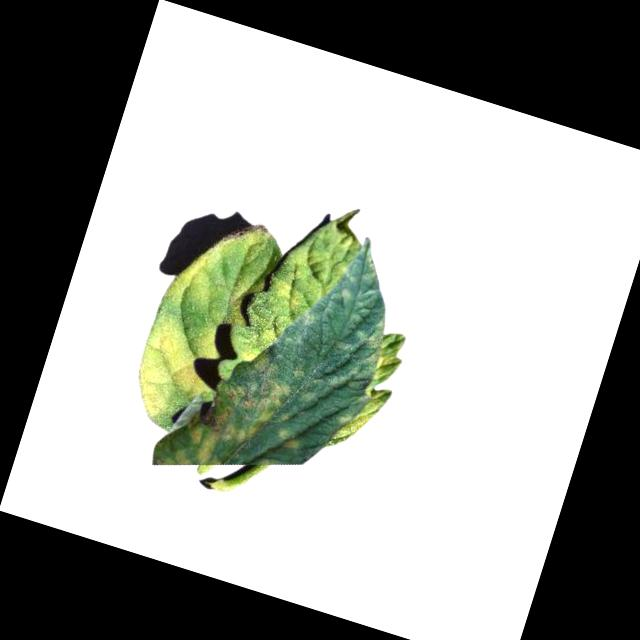Leaf_Mold: (165, 331, 298, 491), (117, 307, 225, 432), (160, 237, 224, 311), (262, 274, 306, 318)
